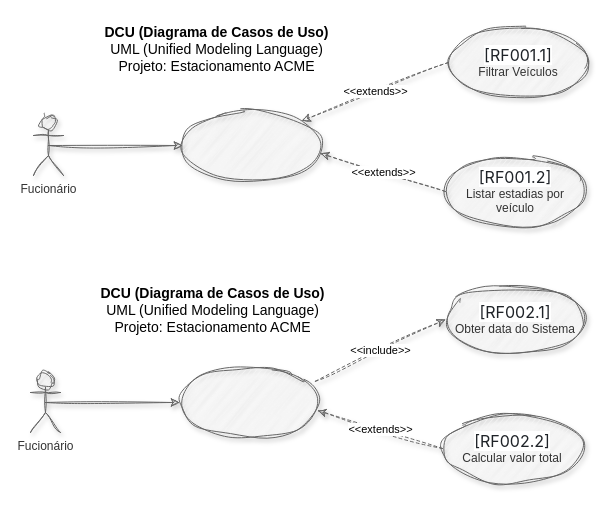
The diagram is 612 pixels wide and 508 high, and some of its shapes have lost their labels. The centre of each missing label's shape, as x and y in pixels:
[RF001] Gerir Veículos: point (253, 147)
[RF002] Gerir Estadias: point (250, 403)
